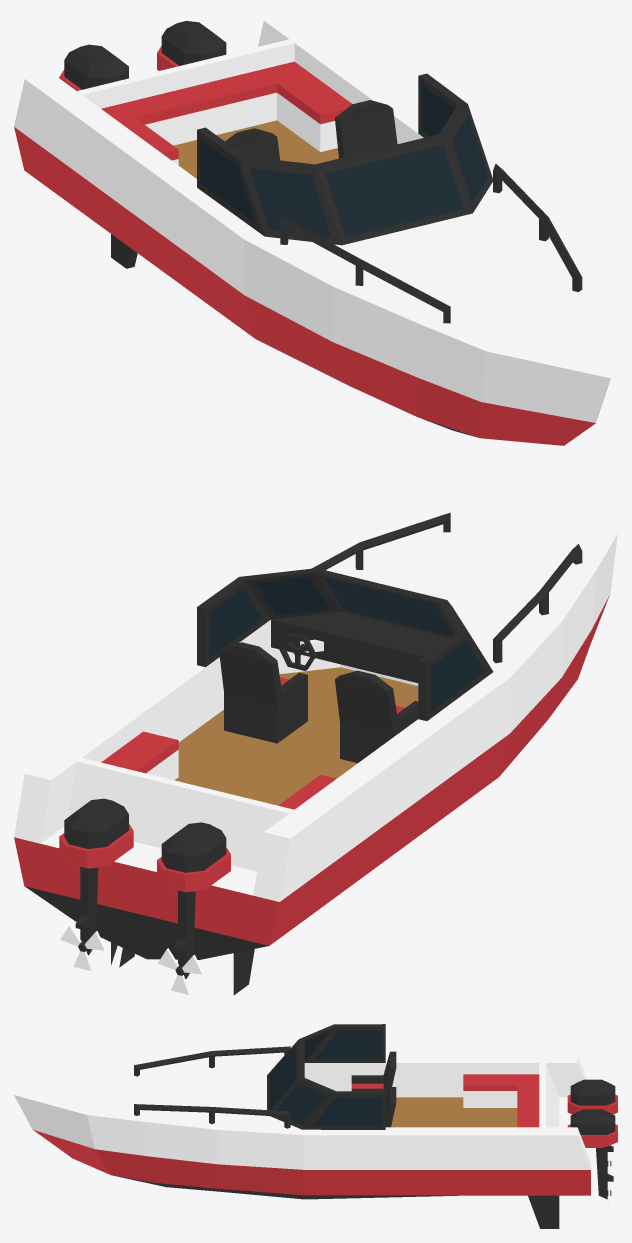
The model's file is boat-speed.glb.
The picture shows the model from 3 angles, top to bottom: view 1: azimuth 30°, elevation 25°; view 2: azimuth 150°, elevation 25°; view 3: azimuth 270°, elevation 25°; orthographic projection. The views are drawn at different scales.
Parts seen in each view (by area): view 1: boat-speed; view 2: boat-speed; view 3: boat-speed.
Part boxes in pixels (bbox=[...]): boat-speed: bbox=[14, 14, 617, 445]; boat-speed: bbox=[14, 474, 617, 995]; boat-speed: bbox=[14, 1024, 617, 1228].
Size of the model in its own units: 3 by 2.63 by 9.5.
Materials: 1 (1 with a texture image).
